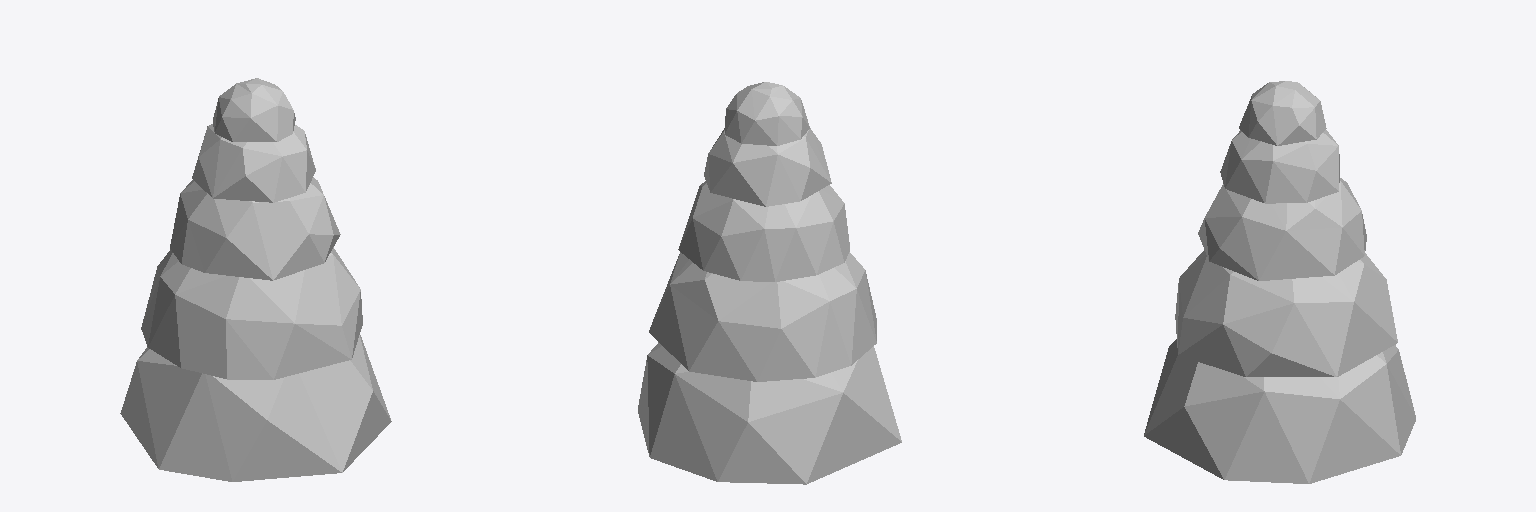
File: tree-cone.obj
The picture shows the model from 3 angles: view 1: azimuth 30°, elevation 25°; view 2: azimuth 150°, elevation 25°; view 3: azimuth 270°, elevation 25°; orthographic projection.
Parts seen in each view (by area): view 1: Object_397; view 2: Object_397; view 3: Object_397.
Part boxes in pixels (left/top/right/bottom): Object_397: left=120, top=78, right=391, bottom=481; Object_397: left=638, top=82, right=901, bottom=484; Object_397: left=1144, top=81, right=1415, bottom=483.
Bounding box in the file's own units: 12.23 × 17.36 × 12.49.